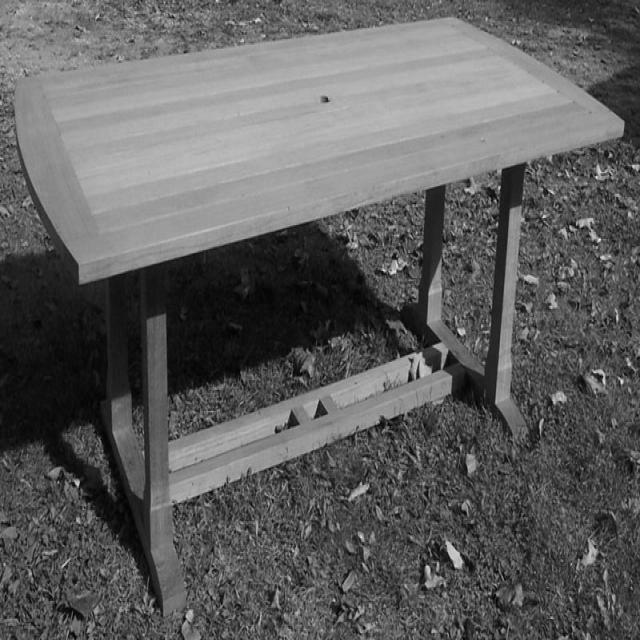table: (14, 13, 624, 621)
